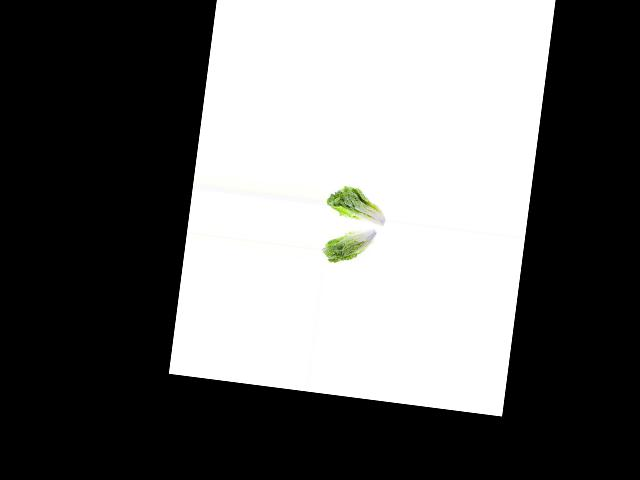lettuce: (321, 222, 383, 269)
